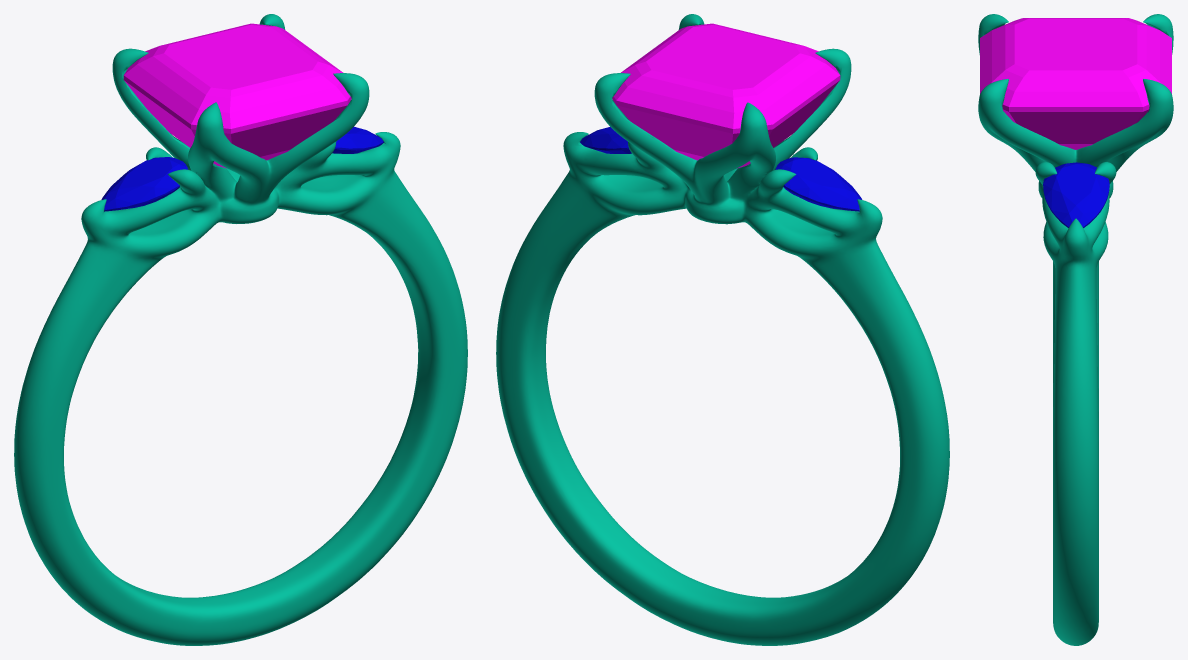
File: BE1D898_AS_200ct_RENDER.glb
3 renders of one model, left to right at view 1: azimuth 30°, elevation 25°; view 2: azimuth 150°, elevation 25°; view 3: azimuth 270°, elevation 25°, orthographic.
Parts seen in each view (by area): view 1: Metal 01, CS_Diamond_Asscher, Diamond_Pear_side, Diamond_Pear_side.001; view 2: Metal 01, CS_Diamond_Asscher, Diamond_Pear_side, Diamond_Pear_side.001; view 3: Metal 01, CS_Diamond_Asscher, Diamond_Pear_side.001.
Boxes of the visible parts, box(x1,y1,x2,y2) form: Metal 01: box(14, 14, 467, 645); CS_Diamond_Asscher: box(123, 23, 351, 168); Diamond_Pear_side: box(101, 157, 187, 211); Diamond_Pear_side.001: box(332, 126, 383, 153); Metal 01: box(496, 14, 949, 645); CS_Diamond_Asscher: box(612, 23, 840, 168); Diamond_Pear_side: box(775, 157, 862, 211); Diamond_Pear_side.001: box(580, 127, 631, 153); Metal 01: box(978, 14, 1173, 645); CS_Diamond_Asscher: box(980, 18, 1171, 149); Diamond_Pear_side.001: box(1043, 162, 1109, 227).
Size of the model in its own units: 20.07 by 24.89 by 7.63.
